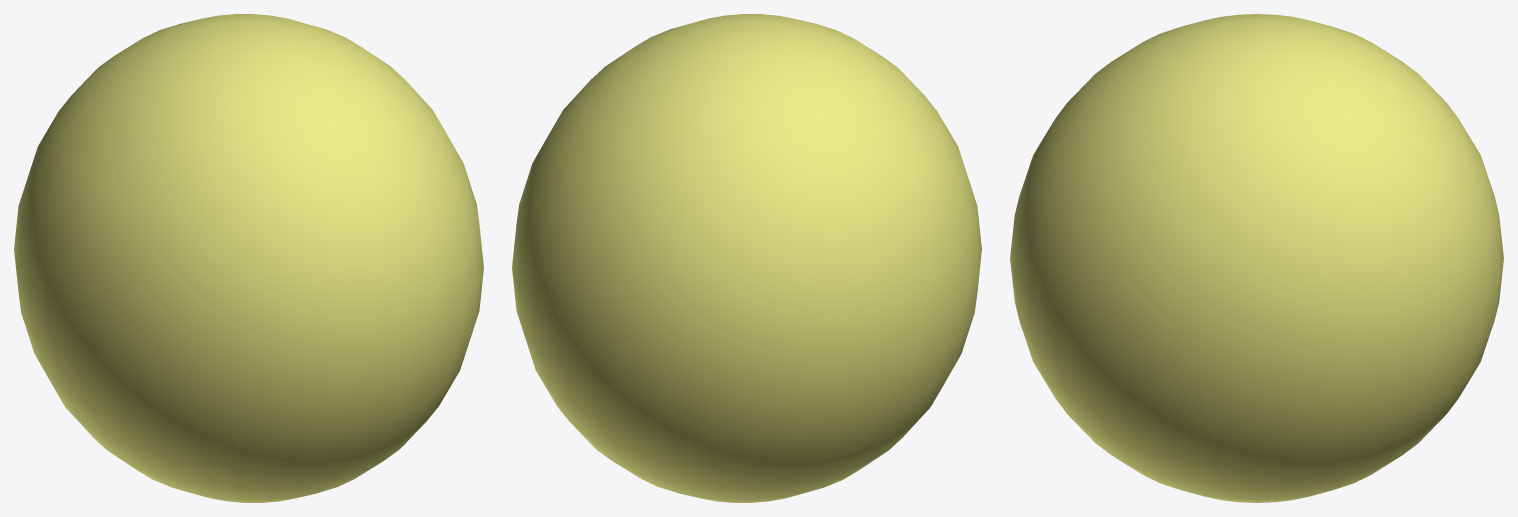
File: info_icon.glb
The picture shows the model from 3 angles, left to right: view 1: azimuth 30°, elevation 25°; view 2: azimuth 150°, elevation 25°; view 3: azimuth 270°, elevation 25°; orthographic projection.
Visible parts, largest first — view 1: Sphere; view 2: Sphere; view 3: Sphere.
Part boxes in pixels (bbox=[...]): Sphere: bbox=[14, 14, 483, 502]; Sphere: bbox=[512, 14, 981, 502]; Sphere: bbox=[1010, 14, 1503, 502].
Bounding box in the file's own units: 0.1328 × 0.1407 × 0.1407.
